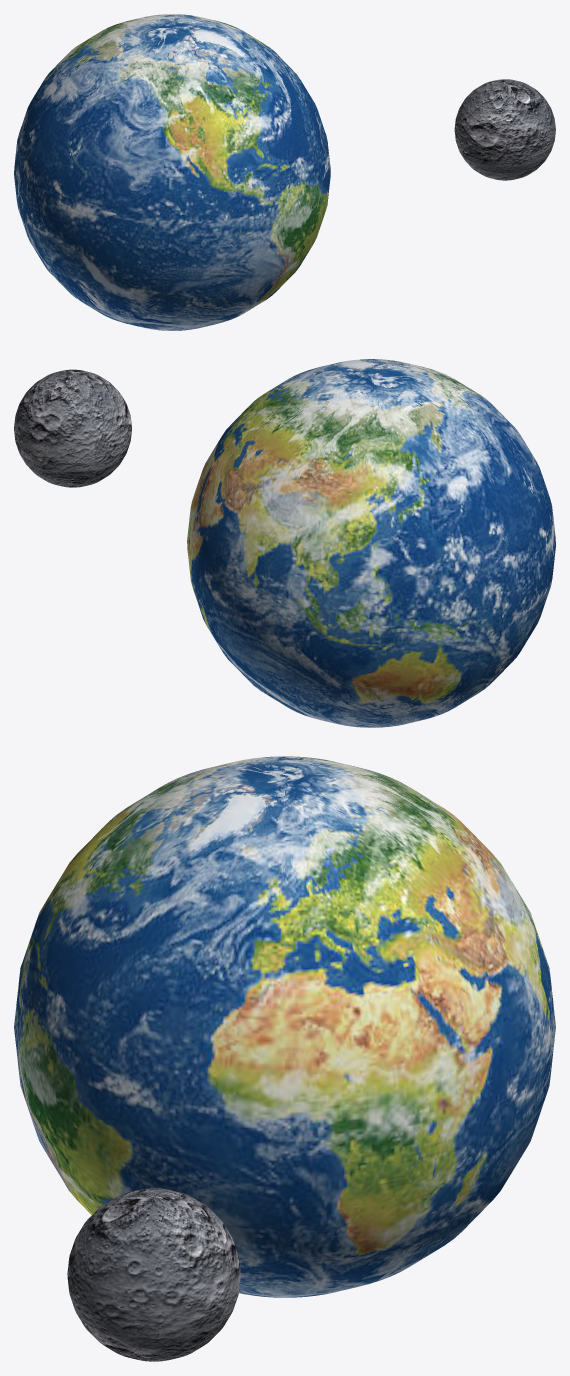
File: earth-moon.glb
The picture shows the model from 3 angles, top to bottom: view 1: azimuth 30°, elevation 25°; view 2: azimuth 150°, elevation 25°; view 3: azimuth 270°, elevation 25°; orthographic projection. The views are drawn at different scales.
Visible parts, largest first — view 1: Sphere, Sphere.001; view 2: Sphere, Sphere.001; view 3: Sphere, Sphere.001.
Boxes of the visible parts, x1,y1,x2,y2 form: Sphere: [14, 14, 330, 330]; Sphere.001: [454, 79, 555, 180]; Sphere: [187, 359, 555, 727]; Sphere.001: [14, 369, 131, 487]; Sphere: [14, 756, 555, 1297]; Sphere.001: [67, 1188, 240, 1361].
Size of the model in its own units: 3.47 by 2 by 2.
Materials: 2 (2 with a texture image).
